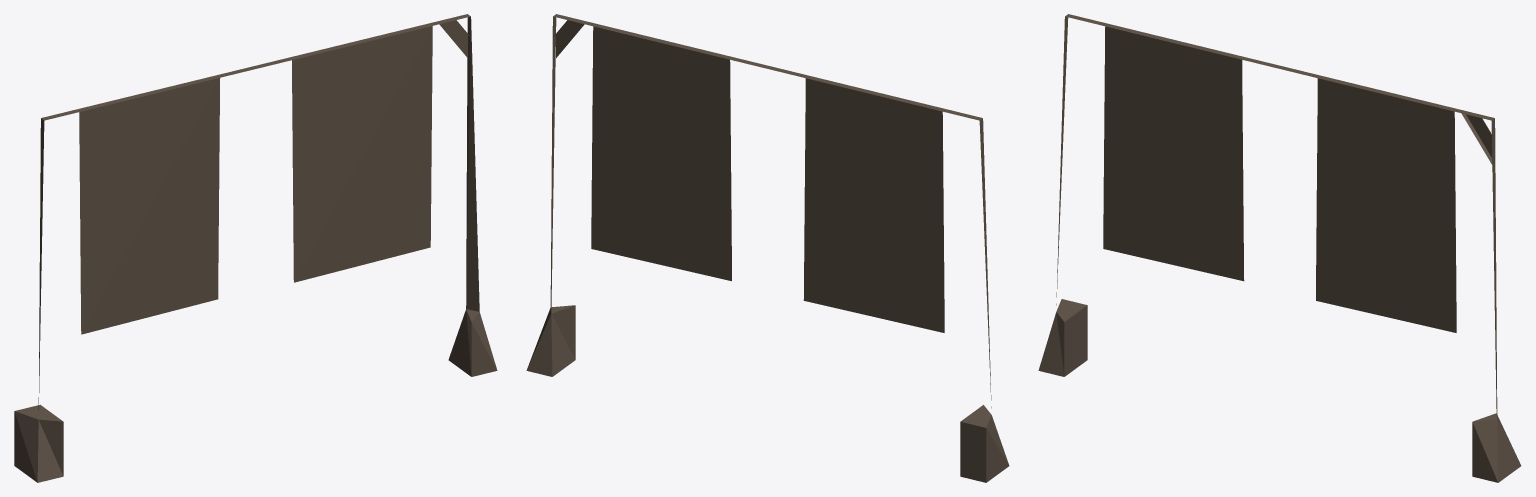
Rendered from range-target.lod2.glb.
3 renders of one model, left to right at view 1: azimuth 30°, elevation 25°; view 2: azimuth 150°, elevation 25°; view 3: azimuth 330°, elevation 25°, orthographic.
Visible parts, largest first — view 1: Object_8; view 2: Object_8; view 3: Object_8.
Boxes of the visible parts, x1=… form: Object_8: x1=14, y1=14, x2=497, y2=482; Object_8: x1=526, y1=14, x2=1009, y2=482; Object_8: x1=1038, y1=14, x2=1521, y2=482.
Size of the model in its own units: 2.36 by 1.72 by 0.2058.
